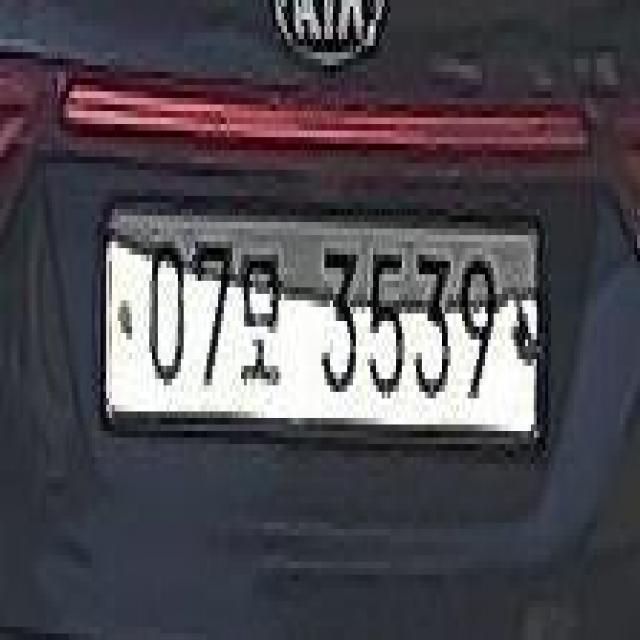illegal_plate: (101, 190, 544, 470)
